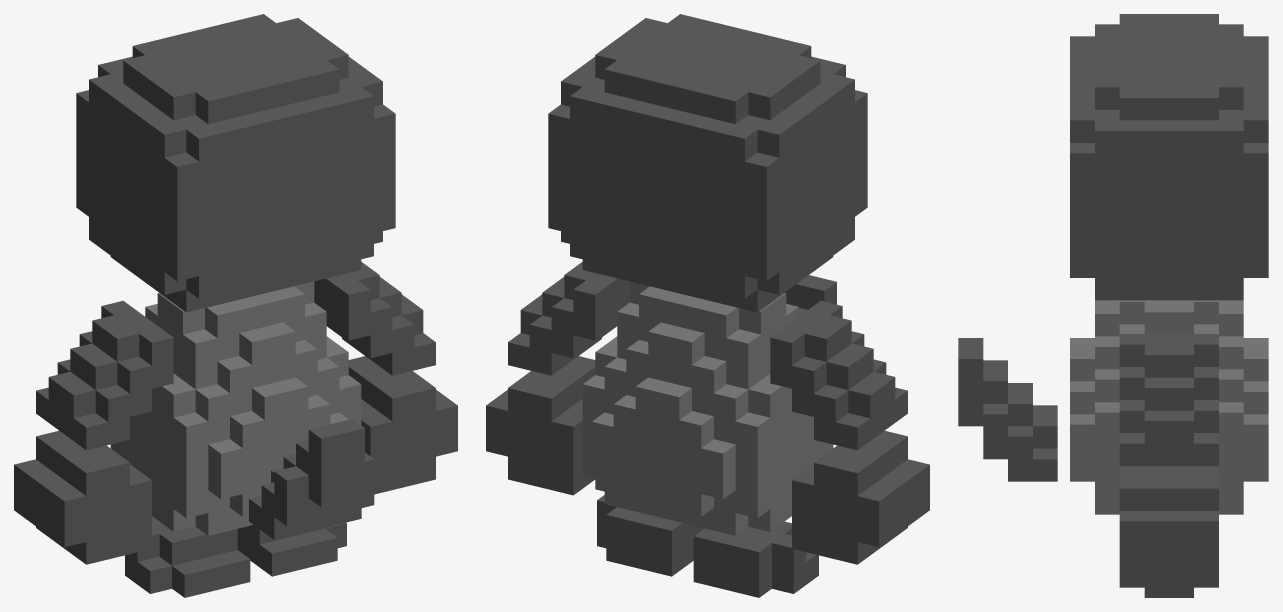
Rendered from Demo.glb.
3 renders of one model, left to right at view 1: azimuth 30°, elevation 25°; view 2: azimuth 150°, elevation 25°; view 3: azimuth 270°, elevation 25°, orthographic.
Parts seen in each view (by area): view 1: pl0_node_4, pl0, pl0_node_2, pl0_node, pl0_node_6, pl0_node_3, pl0_node_5, pl0_node_0, pl0_node_1; view 2: pl0_node_4, pl0, pl0_node_2, pl0_node, pl0_node_3, pl0_node_5, pl0_node_0, pl0_node_1, pl0_node_6; view 3: pl0_node_4, pl0, pl0_node_5, pl0_node_3, pl0_node_6, pl0_node_1.
Boxes of the visible parts, <box> form: pl0_node_4: <box>76,14,395,312</box>; pl0: <box>110,281,361,535</box>; pl0_node_2: <box>14,430,151,564</box>; pl0_node: <box>36,300,173,450</box>; pl0_node_6: <box>249,419,374,539</box>; pl0_node_3: <box>348,356,457,494</box>; pl0_node_5: <box>314,262,435,375</box>; pl0_node_0: <box>125,516,250,597</box>; pl0_node_1: <box>237,522,346,576</box>; pl0_node_4: <box>548,14,867,312</box>; pl0: <box>582,281,833,535</box>; pl0_node_2: <box>792,430,929,564</box>; pl0_node: <box>770,300,907,450</box>; pl0_node_3: <box>486,356,595,495</box>; pl0_node_5: <box>508,262,629,375</box>; pl0_node_0: <box>693,521,818,597</box>; pl0_node_1: <box>597,495,703,576</box>; pl0_node_6: <box>785,275,836,316</box>; pl0_node_4: <box>1070,14,1268,300</box>; pl0: <box>1070,300,1268,514</box>; pl0_node_5: <box>1119,334,1218,465</box>; pl0_node_3: <box>1119,467,1218,578</box>; pl0_node_6: <box>958,338,1057,481</box>; pl0_node_1: <box>1119,578,1218,597</box>.
Size of the model in its own units: 1.8 by 2.2 by 1.25.
8 materials, 8 textured.
